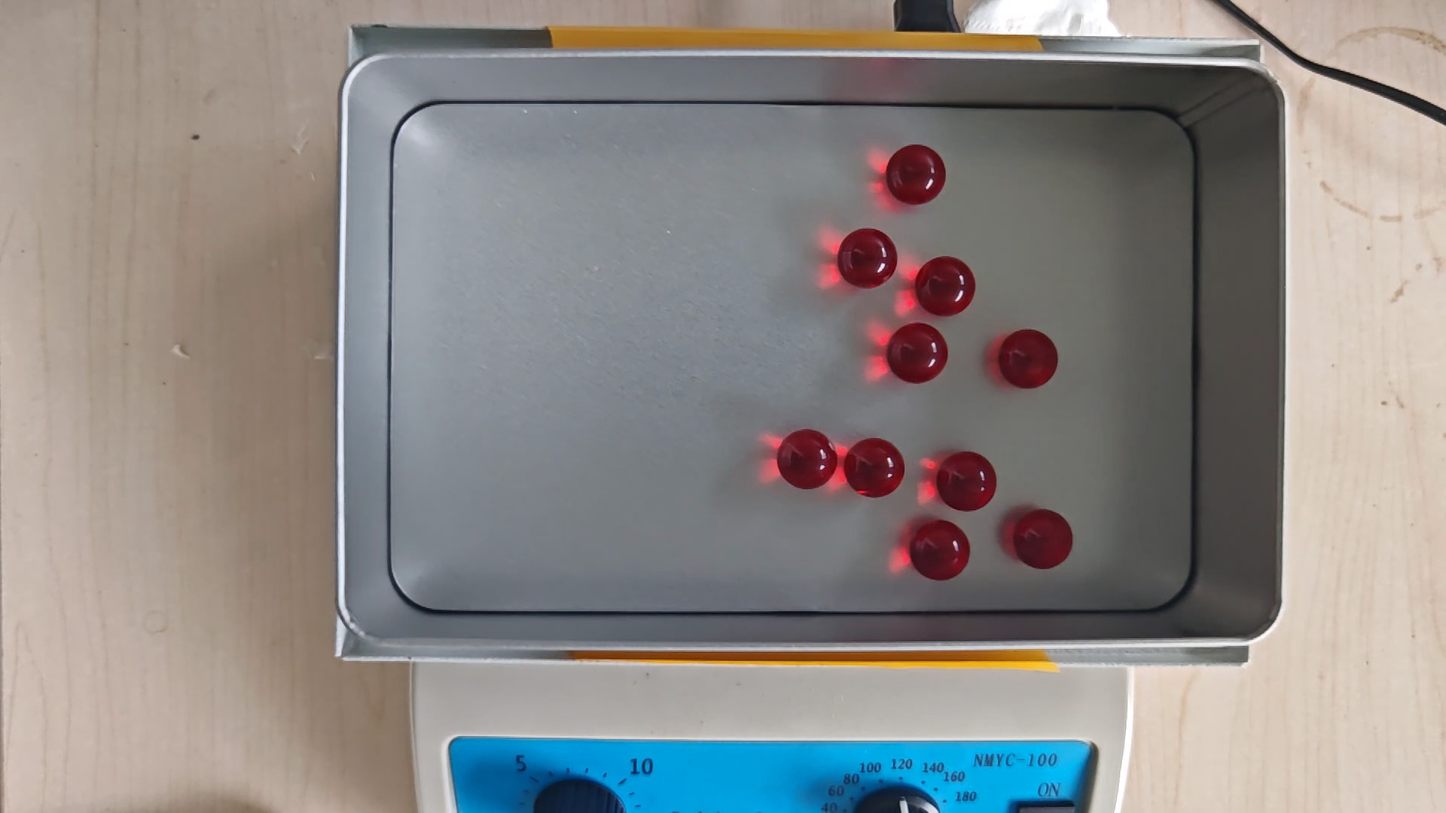ball: (887, 323, 948, 384), (910, 521, 971, 582), (916, 256, 976, 318), (886, 144, 946, 206), (838, 227, 898, 289), (1014, 508, 1074, 569), (777, 429, 837, 490), (936, 451, 996, 512), (999, 329, 1058, 390), (845, 437, 904, 498)
container: (385, 97, 1199, 615)
